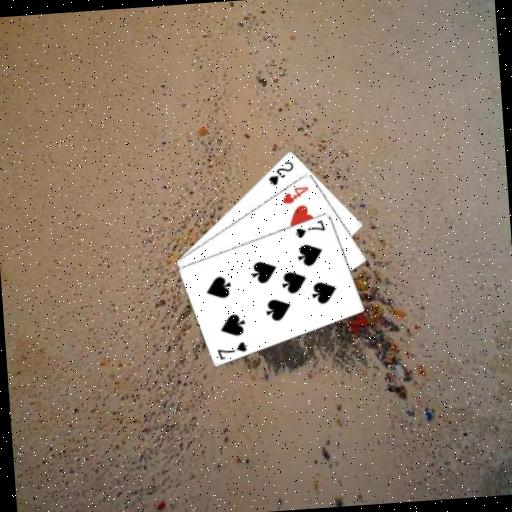2S: (264, 157, 296, 187)
4H: (279, 183, 312, 206)
7S: (214, 338, 250, 362), (292, 216, 327, 240)
